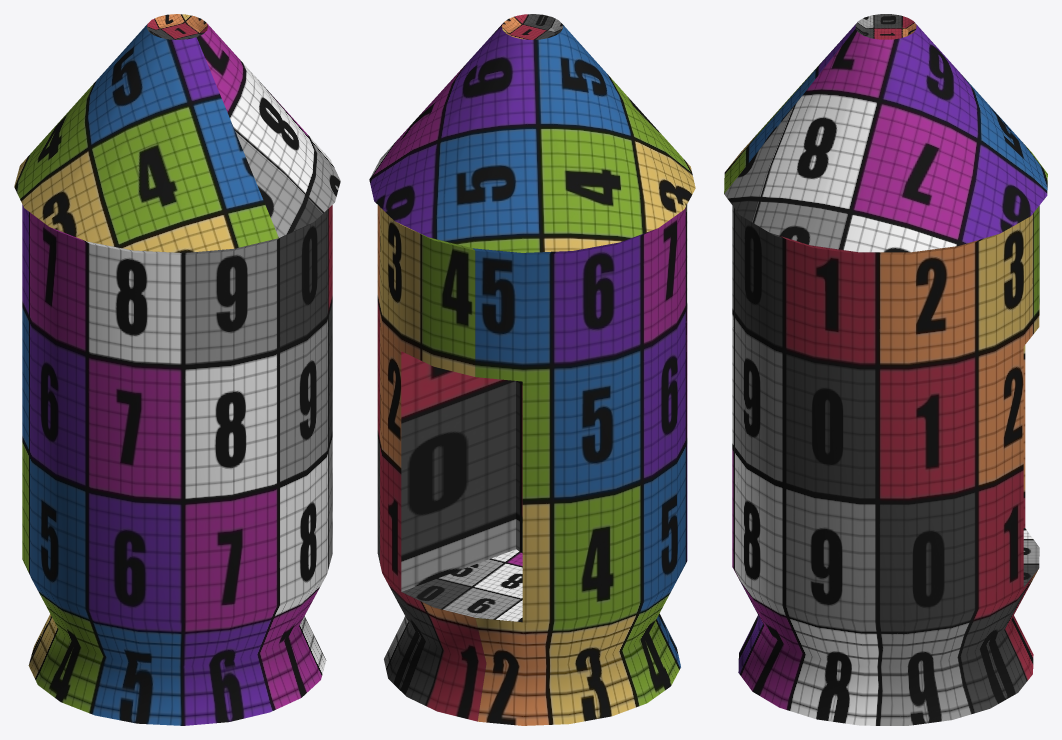
Rendered from Rakieta.fbx.
3 renders of one model, left to right at view 1: azimuth 30°, elevation 25°; view 2: azimuth 150°, elevation 25°; view 3: azimuth 270°, elevation 25°, orthographic.
Visible parts, largest first — view 1: pCylinder142; view 2: pCylinder142; view 3: pCylinder142.
Boxes of the visible parts, left/top/right/bottom form: pCylinder142: left=14, top=14, right=340, bottom=725; pCylinder142: left=369, top=14, right=695, bottom=725; pCylinder142: left=724, top=14, right=1047, bottom=725.
Size of the model in its own units: 37.35 by 81.03 by 37.35.
Materials: 1 (1 with a texture image).
